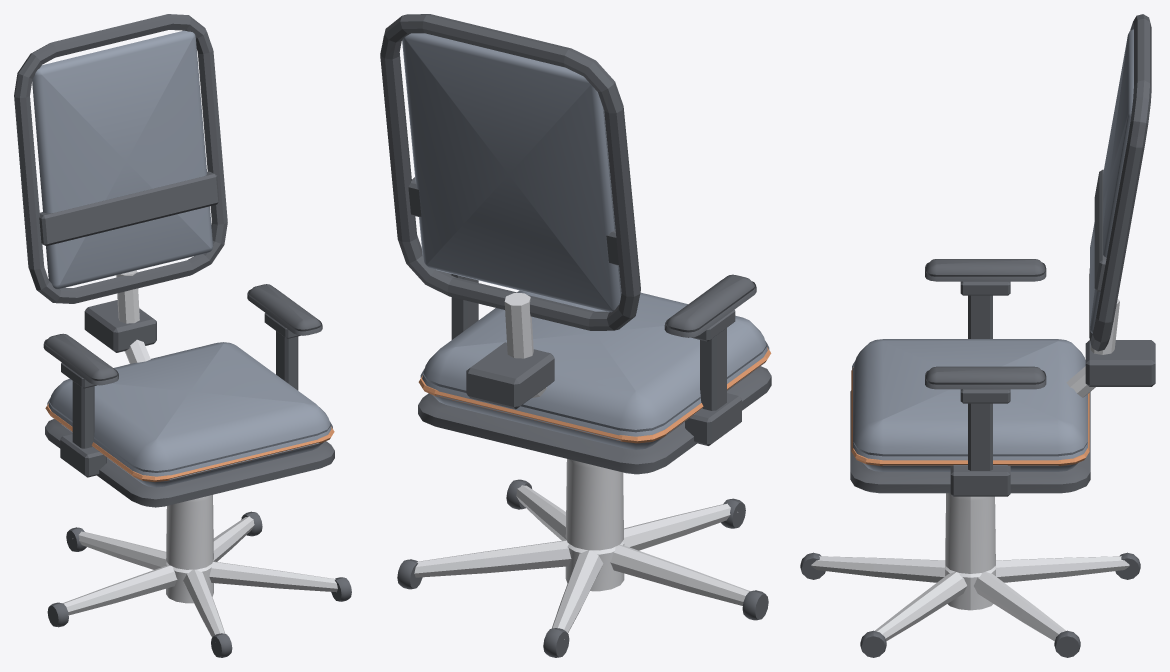
Rendered from task-chair-mesh.glb.
3 views of the same model, side by side, from view 1: azimuth 30°, elevation 25°; view 2: azimuth 150°, elevation 25°; view 3: azimuth 270°, elevation 25° (orthographic). The views are drawn at different scales.
Parts seen in each view (by area): view 1: task-chair-mesh; view 2: task-chair-mesh; view 3: task-chair-mesh.
Part boxes in pixels (bbox=[...]): task-chair-mesh: bbox=[14, 14, 351, 657]; task-chair-mesh: bbox=[380, 14, 771, 657]; task-chair-mesh: bbox=[800, 14, 1155, 657].
Size of the model in its own units: 0.6322 by 1.21 by 0.7102.
